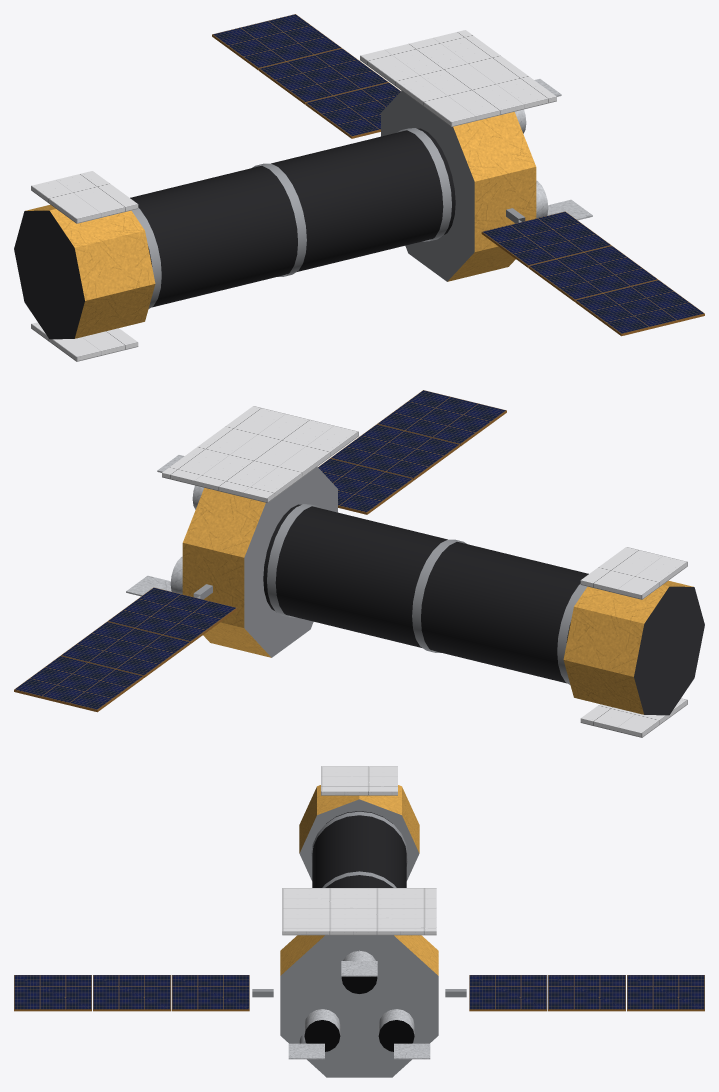
File: xmm.glb
3 views of the same model, one above another, from view 1: azimuth 30°, elevation 25°; view 2: azimuth 150°, elevation 25°; view 3: azimuth 270°, elevation 25° (orthographic). The views are drawn at different scales.
Visible parts, largest first — view 1: xmm; view 2: xmm; view 3: xmm.
Part boxes in pixels (<box>): xmm: <box>14,14,704,361</box>; xmm: <box>14,390,704,737</box>; xmm: <box>14,766,704,1077</box>.
Size of the model in its own units: 11.4 by 4 by 16.12.
Materials: 9 (4 with a texture image).
